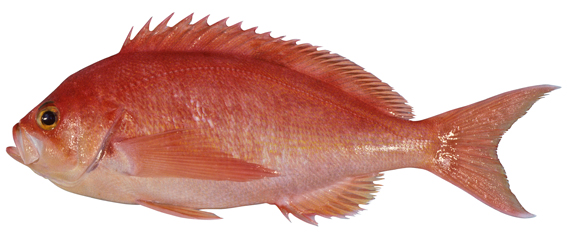fish: (7, 13, 562, 228)
